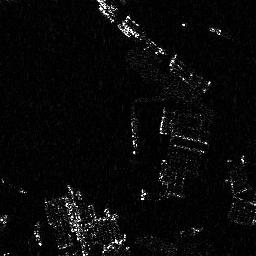ship: (127, 116, 141, 154)
